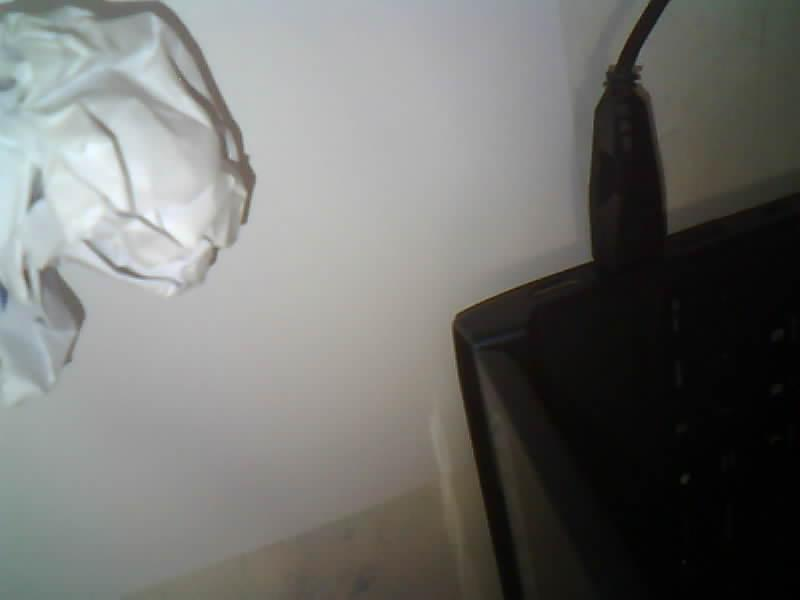biodegradable: (0, 2, 253, 404)
